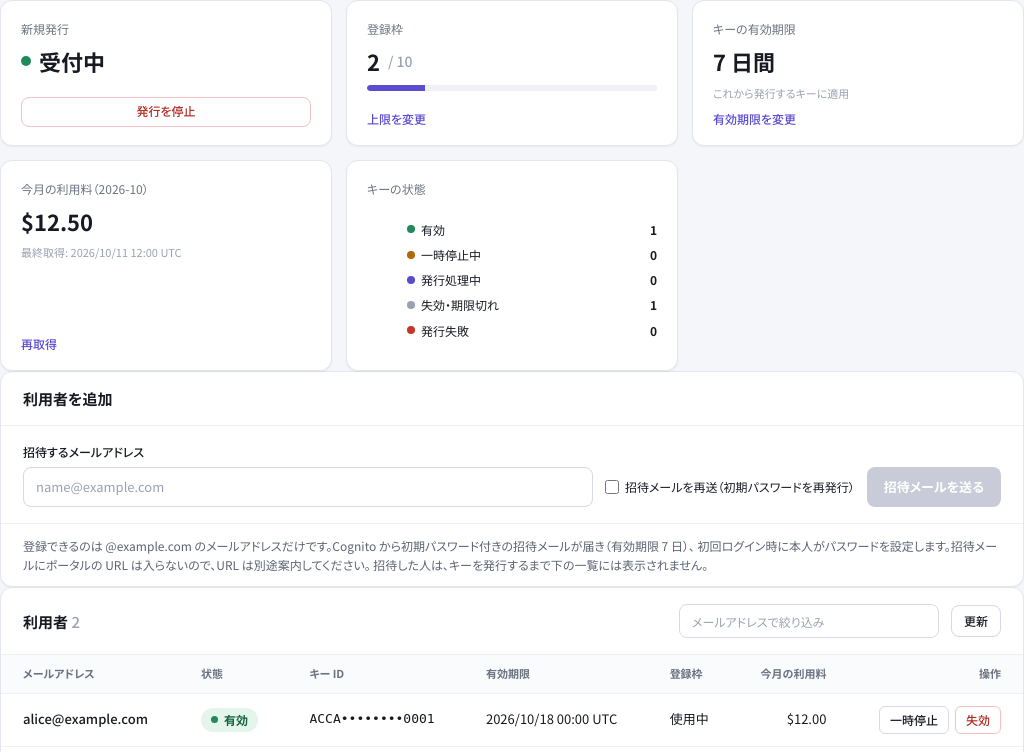
Test: AdminView › changes the registration cap with validation and a warning when lowering below usage
Click the button "上限を変更" at (397, 119), box [367,112,657,127]
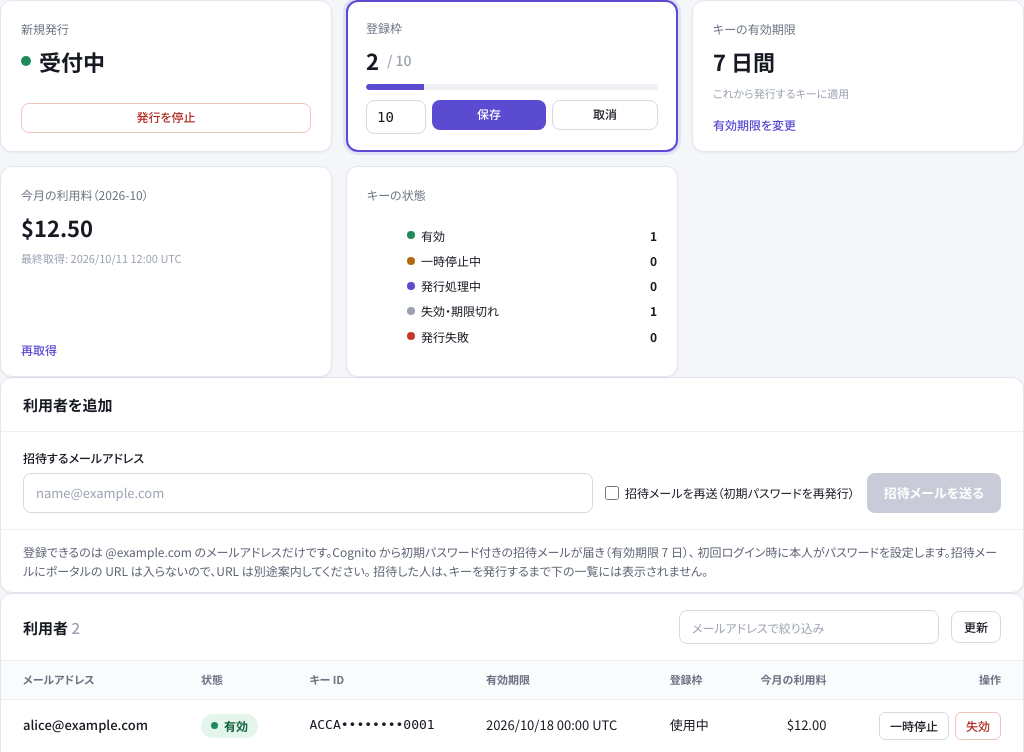
Replace the text in the number field named "新しい登録枠" with "0" at (396, 117), box [366,100,426,134]
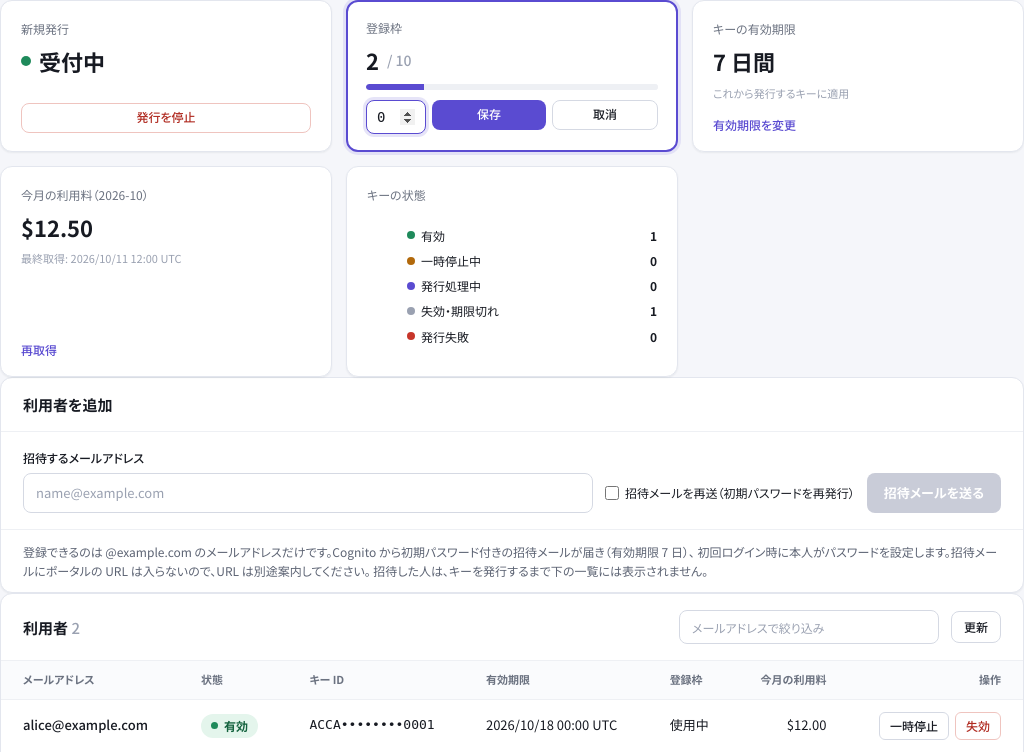
Click the button "保存" at (489, 115), box [432,100,546,130]
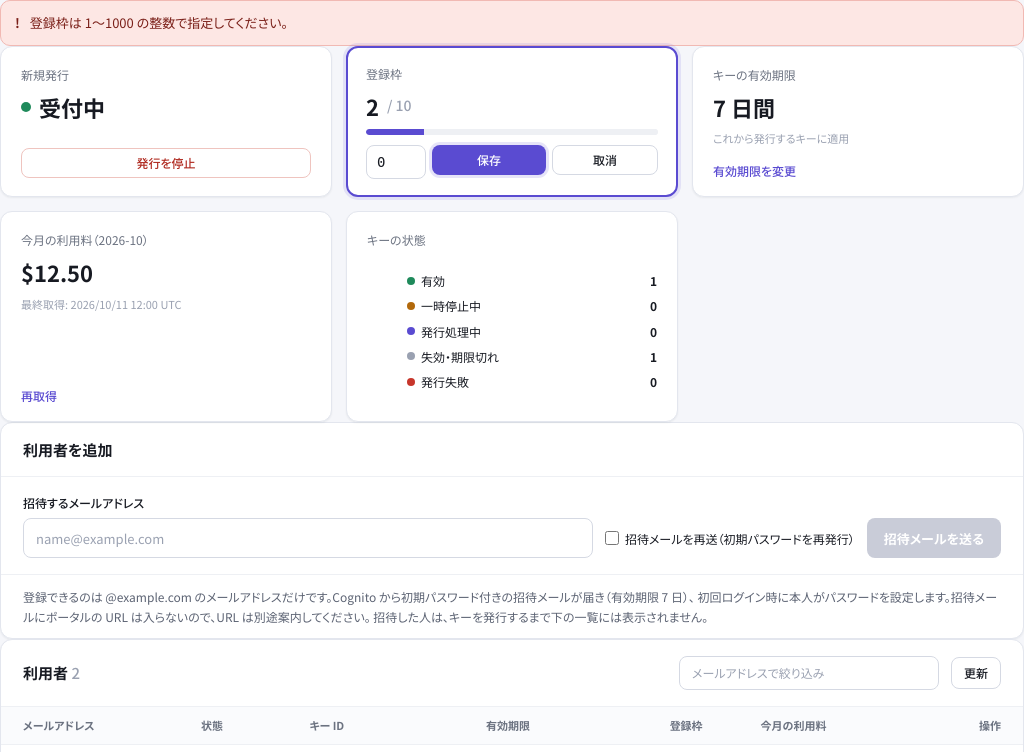
Expected: the text "登録枠は 1〜1000 の整数で指定してください。" is shown, [30,13,288,32]
Replace the text in the number field named "新しい登録枠" with "1" at (396, 162), box [366,145,426,179]
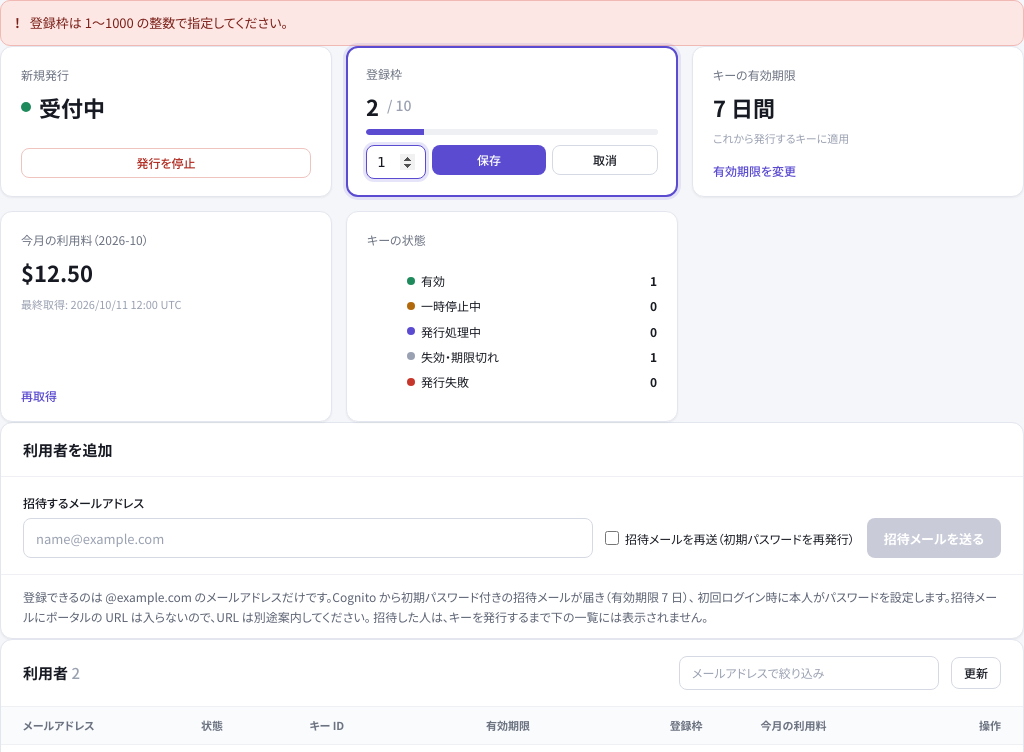
Click the button "保存" at (489, 160), box [432,145,546,175]
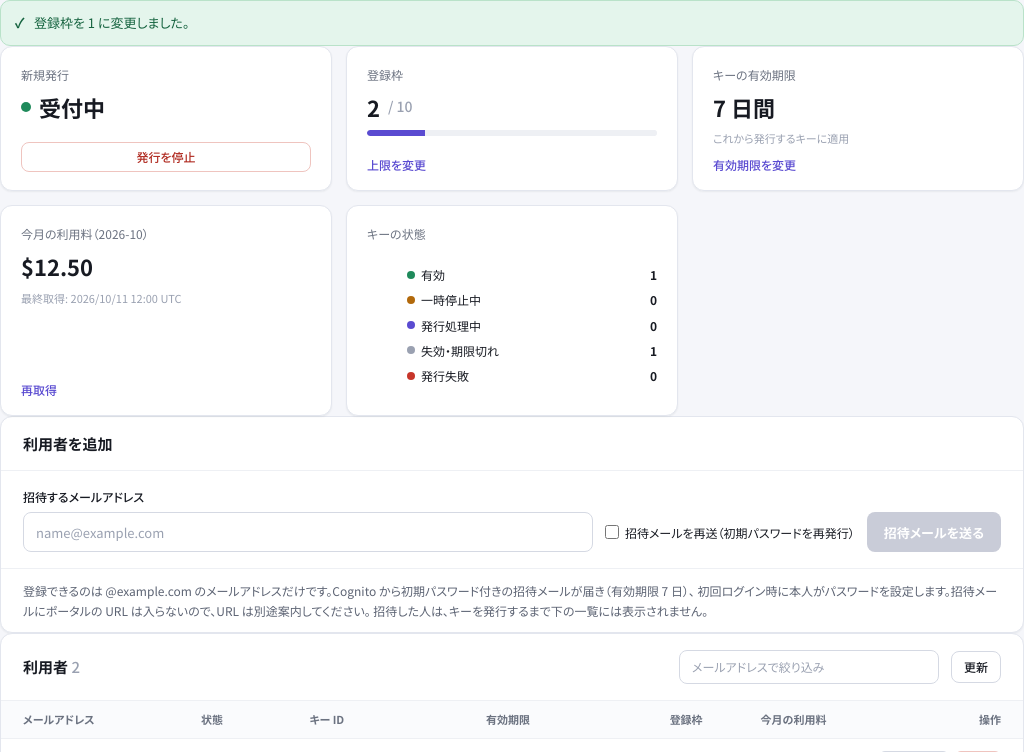
Expected: the text "登録枠を 1 に変更しました。" is shown, [34,13,189,32]
